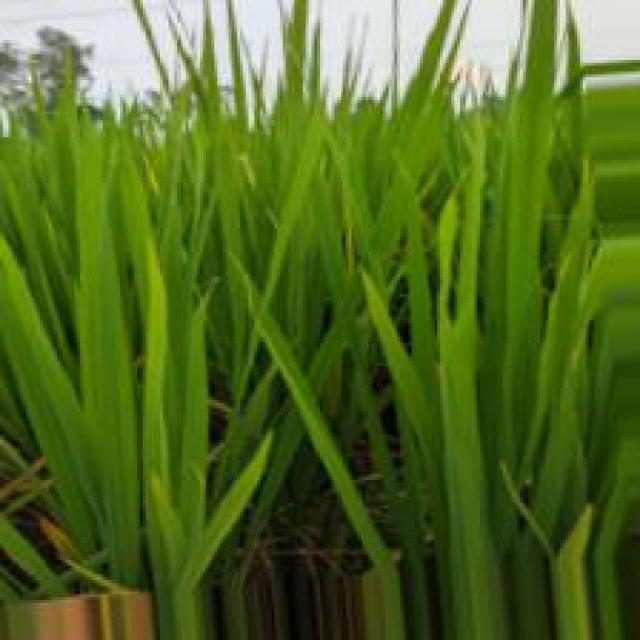HealthyLeaf: (4, 120, 137, 559), (269, 97, 315, 302)
